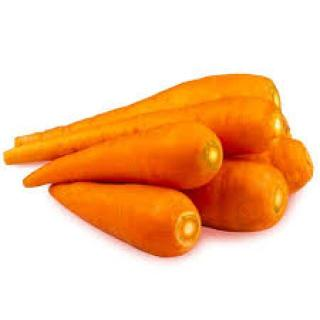carrot: (4, 98, 282, 166), (21, 121, 223, 193), (39, 179, 203, 259)
